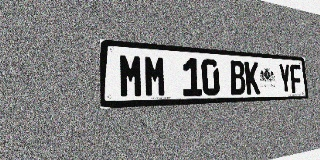0: (201, 58, 220, 96)
1: (182, 57, 202, 96)
B: (229, 60, 246, 95)
F: (290, 64, 303, 93)
K: (244, 61, 260, 94)
M: (118, 53, 144, 98), (144, 55, 167, 97)
Y: (278, 63, 292, 93)
